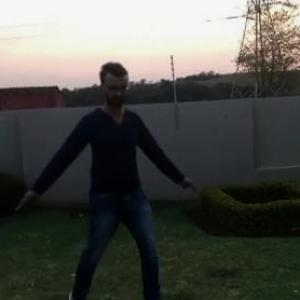land: (50, 79, 186, 285)
